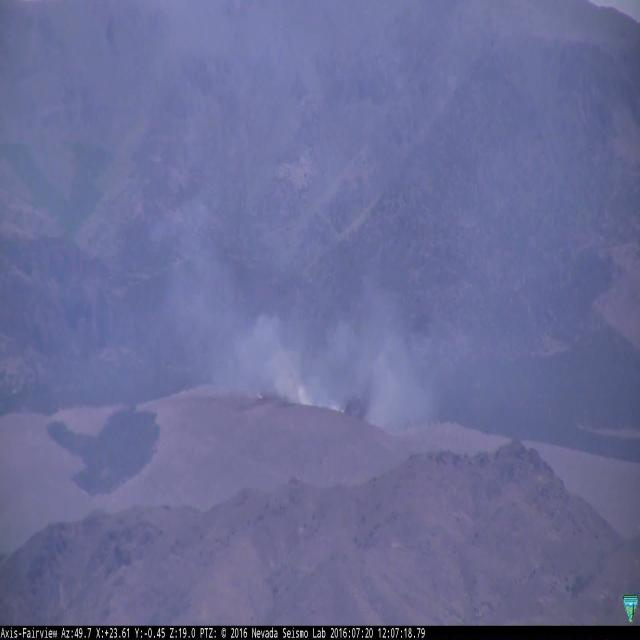smoke: (176, 248, 437, 428)
